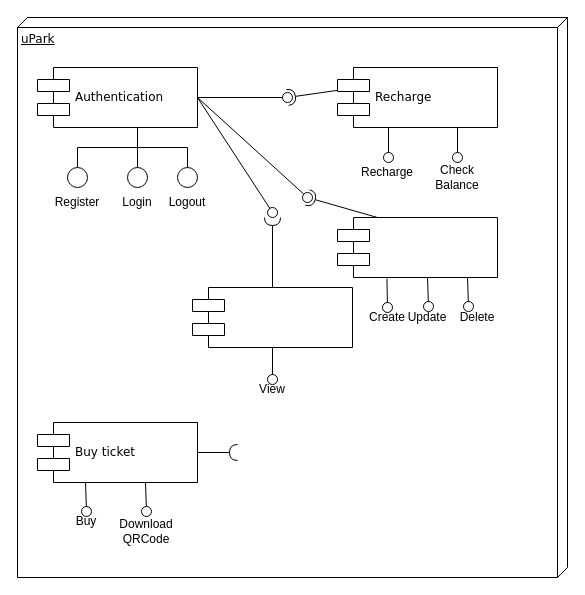
This 585x595 diagram has some shape labels left out. The shapes that lost their labels are listed below. From the top down, each one's centre as x and y in pixels, then its label:
At point (417, 247): "Manage rates/ vehicles".
At point (272, 317): "Reports".
